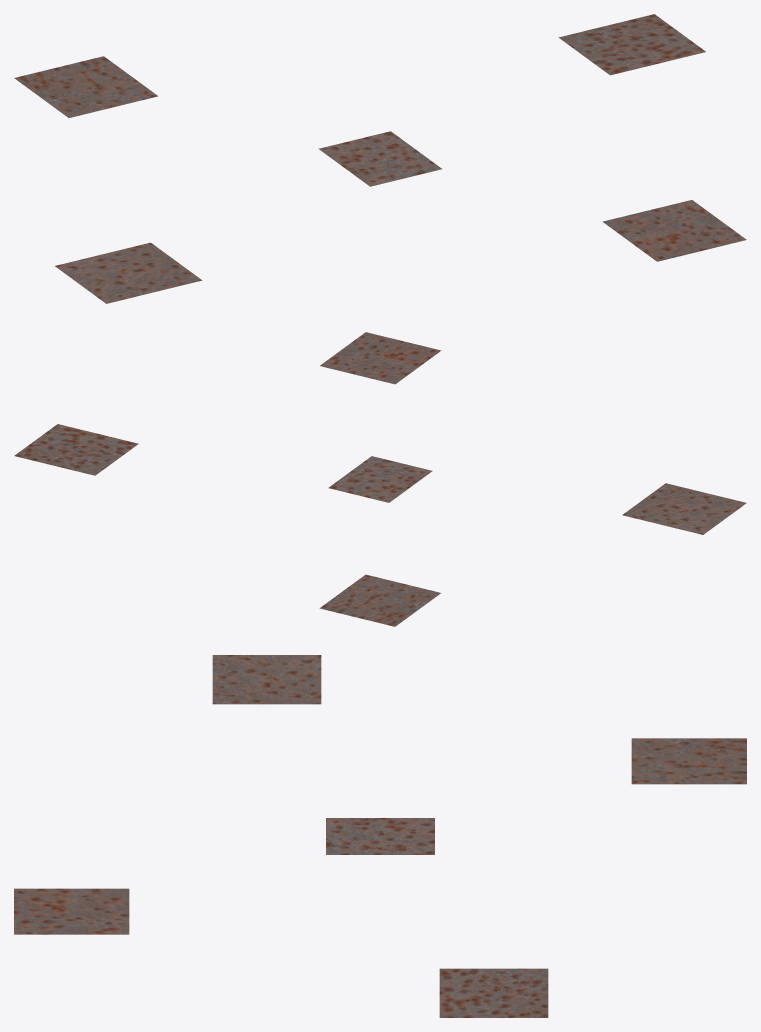
The model's file is SM_NeoLD_05_Metal_00.001.fbx.
The picture shows the model from 3 angles, top to bottom: view 1: azimuth 30°, elevation 25°; view 2: azimuth 150°, elevation 25°; view 3: azimuth 270°, elevation 25°; orthographic projection. The views are drawn at different scales.
Parts seen in each view (by area): view 1: SM_NeoLD_05_Metal_00.001; view 2: SM_NeoLD_05_Metal_00.001; view 3: SM_NeoLD_05_Metal_00.001.
Boxes of the visible parts, x1,y1,x2,y2 form: SM_NeoLD_05_Metal_00.001: (14,14,746,303); SM_NeoLD_05_Metal_00.001: (14,332,746,626); SM_NeoLD_05_Metal_00.001: (14,655,746,1017).
Bounding box in the file's own units: 2370 × 0 × 2023.
